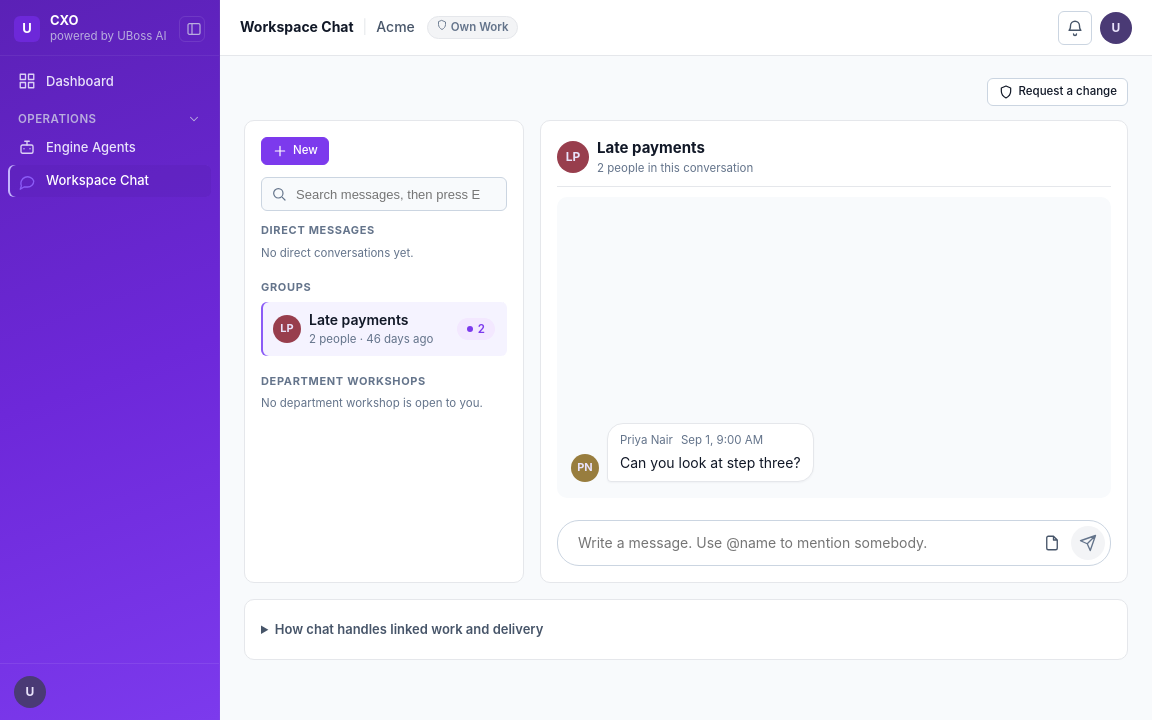
it: Workspace Chat › searches, and prints the stance about what search covers
Check: the element with test id "chat-conversations" is shown, box [261,223,507,410]
Step 1. Type "invoice" into the search field with placeholder "Search messages, then press Enter" → point(384, 194), box [261,177,507,211]
Then press Enter
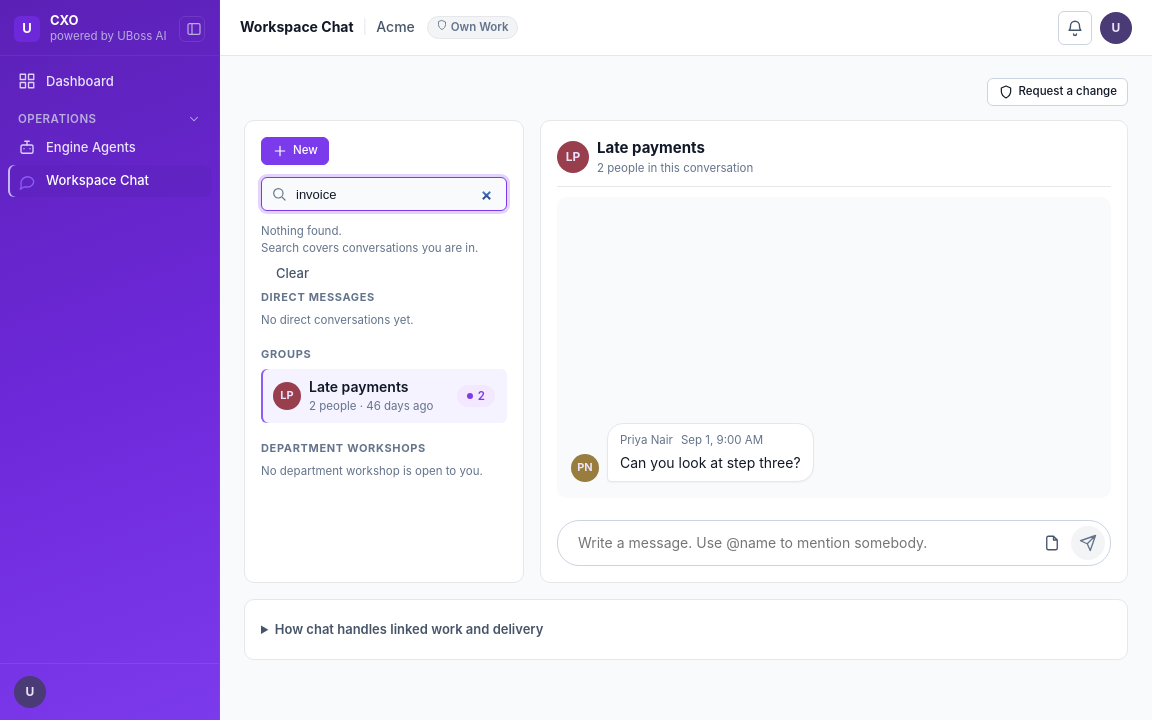
Check: the element with test id "chat-search-results" shows "Search covers conversations you are in.", box [261,241,478,255]
